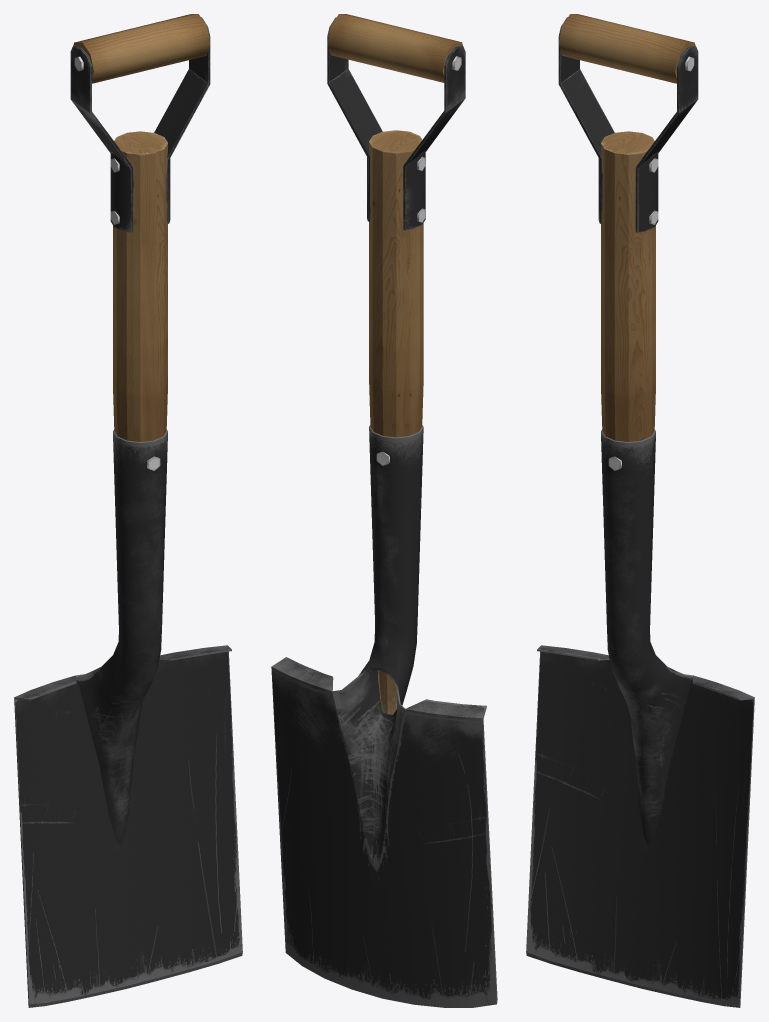
Rendered from shovel_01_lowpoly.FBX.
3 views of the same model, side by side, from view 1: azimuth 30°, elevation 25°; view 2: azimuth 150°, elevation 25°; view 3: azimuth 330°, elevation 25° (orthographic).
Visible parts, largest first — view 1: shovel_01_lowpoly; view 2: shovel_01_lowpoly; view 3: shovel_01_lowpoly.
Boxes of the visible parts, x1,y1,x2,y2 form: shovel_01_lowpoly: (14, 14, 242, 1007); shovel_01_lowpoly: (271, 14, 497, 1007); shovel_01_lowpoly: (526, 14, 754, 1007).
Bounding box in the file's own units: 10.84 × 47.09 × 3.7.
